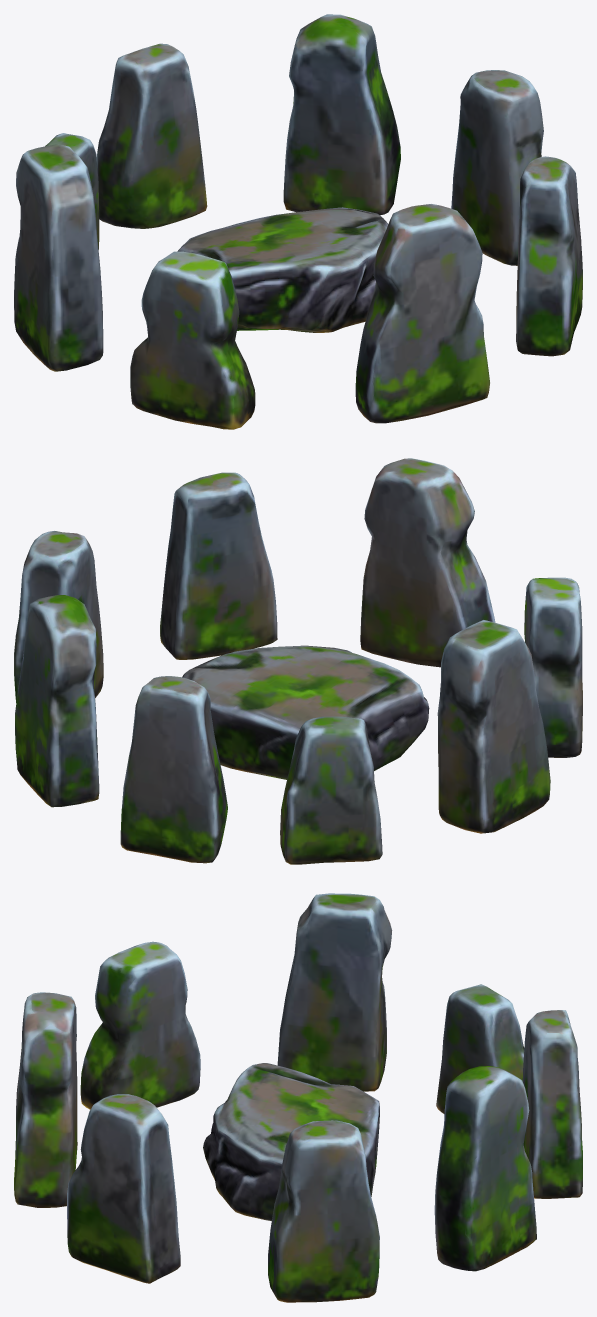
Rendered from stones_a.glb.
The picture shows the model from 3 angles, top to bottom: view 1: azimuth 30°, elevation 25°; view 2: azimuth 150°, elevation 25°; view 3: azimuth 270°, elevation 25°; orthographic projection. The views are drawn at different scales.
Visible parts, largest first — view 1: world; view 2: world; view 3: world.
Boxes of the visible parts, x1=… form: world: x1=14, y1=14, x2=582, y2=429; world: x1=14, y1=458, x2=582, y2=864; world: x1=14, y1=893, x2=582, y2=1302.
Bounding box in the file's own units: 0.9965 × 0.3586 × 1.
1 material, 1 textured.
